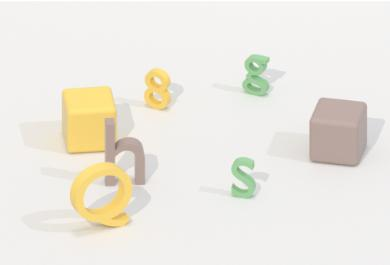0-KhoiVuong: (304, 92, 372, 168), (59, 82, 120, 154)
8: (141, 63, 175, 115)
Q: (66, 163, 134, 230)
S: (227, 153, 258, 201)
g: (239, 50, 274, 102)
h: (101, 114, 149, 189)
